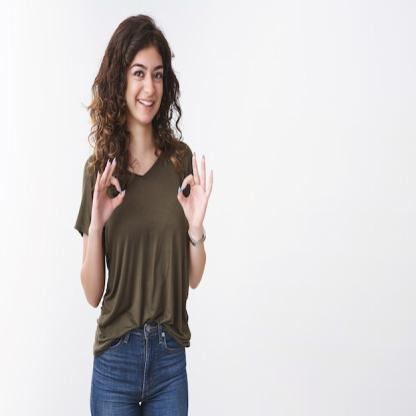ok: (172, 146, 216, 242), (88, 154, 127, 233)
